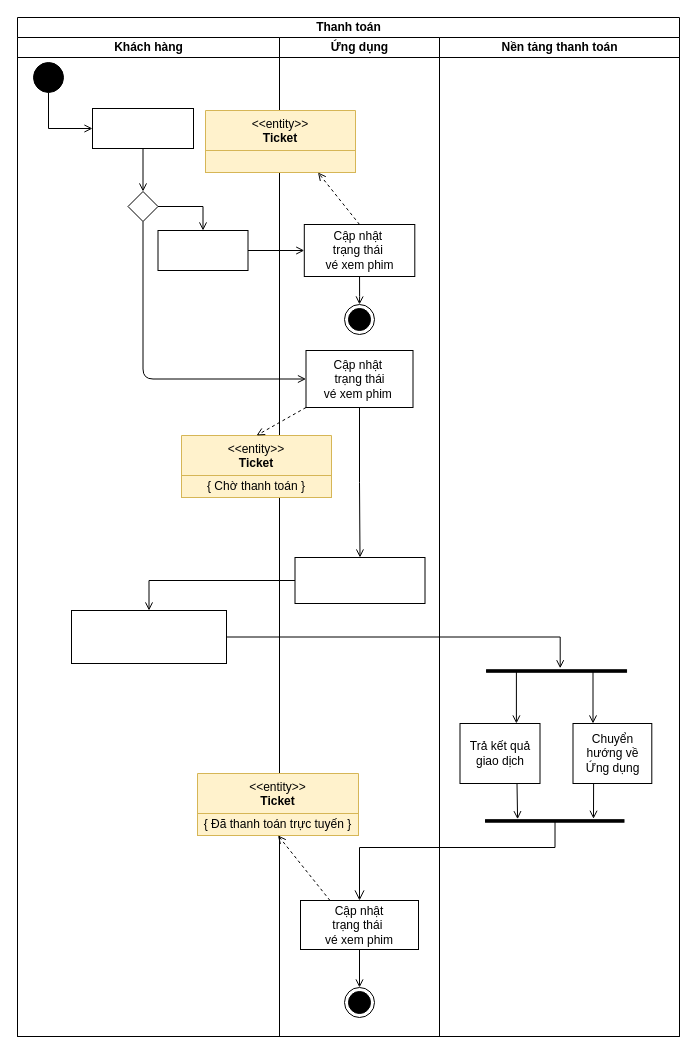
The diagram is 697 pixels wide and 1054 high, and some of its shapes have lost their labels. Each missing label, with the centre of its shape:
"Chuyển hướng sang Nền tảng thanh toán" goes at pixel 359 580.
"Chọn phương thức thanh toán" goes at pixel 143 128.
"Thực hiện giao dịch với Nền tảng thanh toán" goes at pixel 148 637.
"Thực hiện thanh toán" goes at pixel 202 250.
"{ Đã thanh toán trực tiếp }" goes at pixel 280 161.
